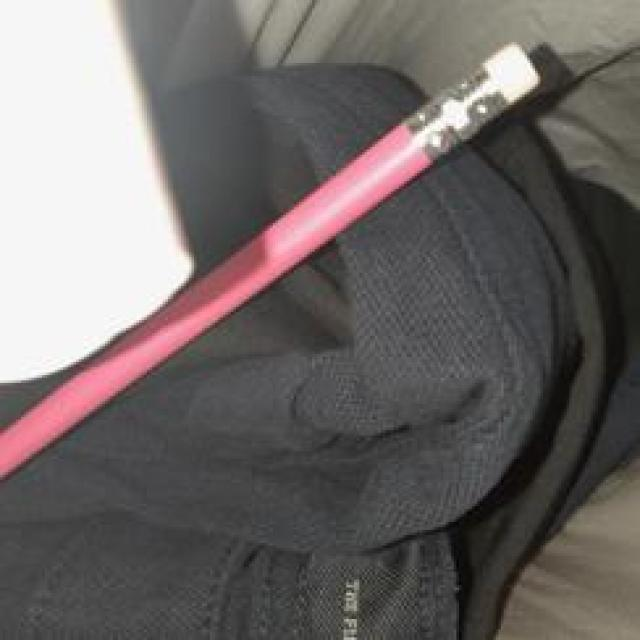pencil: (0, 45, 537, 477)
